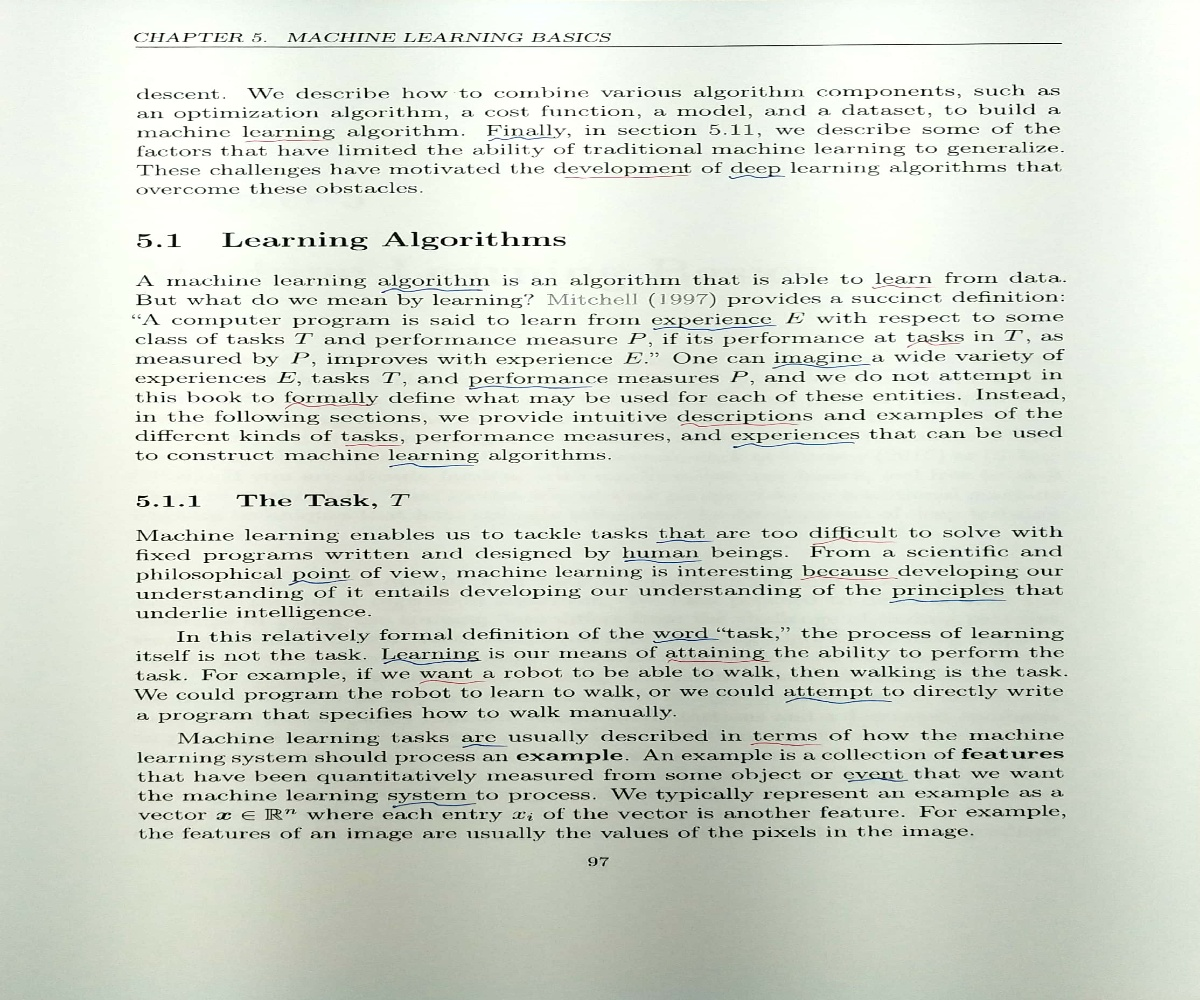underline: (730, 440, 857, 450), (783, 695, 892, 706), (466, 383, 593, 392), (649, 323, 782, 331), (379, 657, 485, 666), (889, 596, 1007, 604), (280, 401, 372, 411), (769, 362, 870, 371), (676, 418, 801, 425), (389, 460, 475, 470), (379, 286, 484, 294), (663, 657, 768, 665), (720, 174, 790, 185), (392, 799, 477, 808), (413, 676, 480, 687), (622, 556, 702, 565), (844, 776, 909, 787), (242, 137, 330, 145), (810, 536, 895, 544), (800, 574, 897, 581), (556, 173, 690, 178), (903, 338, 964, 348), (651, 636, 720, 644), (345, 439, 404, 448), (488, 135, 570, 141), (458, 741, 507, 751), (869, 281, 929, 289), (749, 740, 821, 746), (288, 578, 347, 585), (658, 537, 716, 544)
